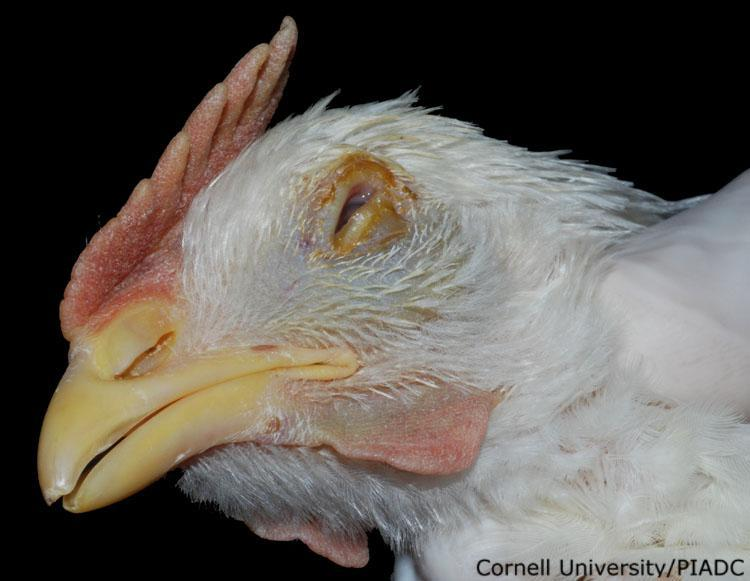AbNormal: (39, 16, 750, 581)
